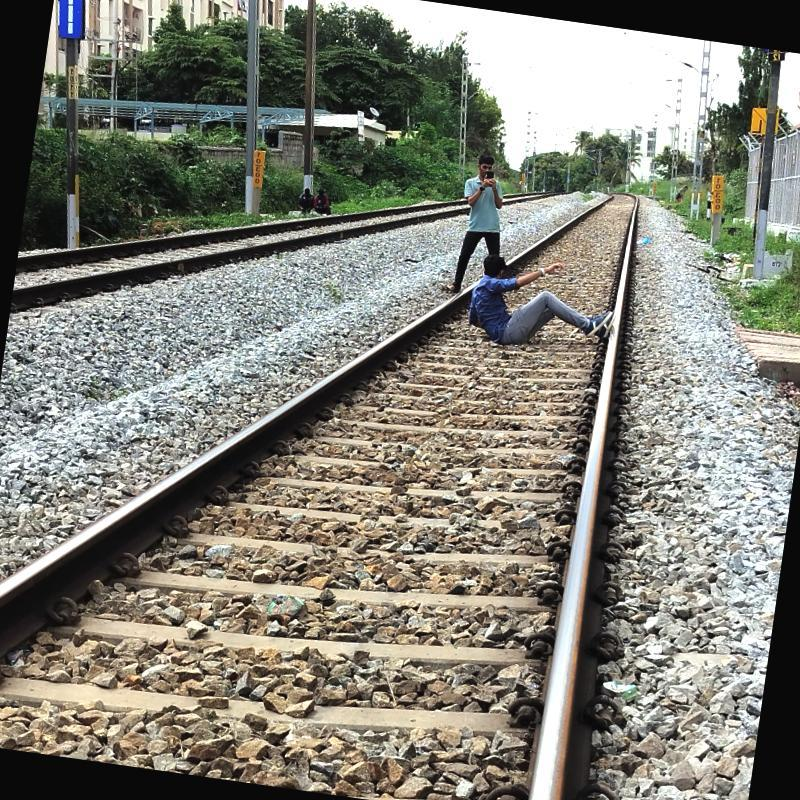sleeping: (448, 252, 617, 365)
